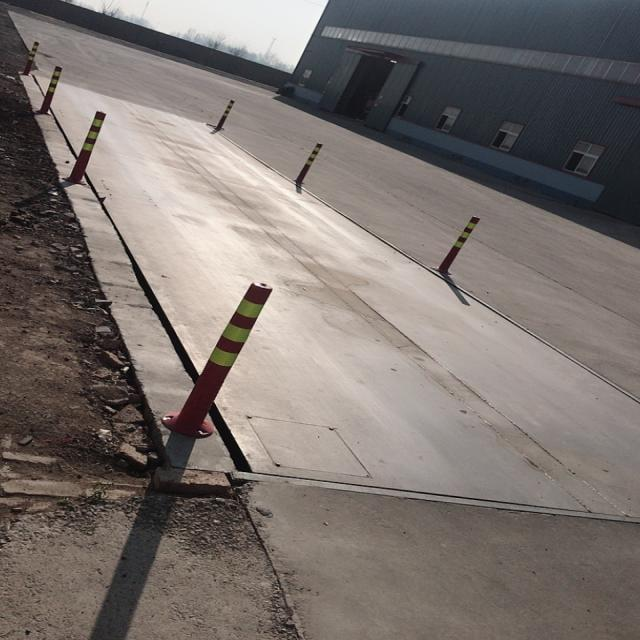warning_column: (164, 279, 271, 437), (60, 109, 109, 183), (436, 214, 480, 273), (34, 66, 61, 113), (294, 141, 322, 183), (21, 39, 41, 75), (216, 98, 235, 127)
